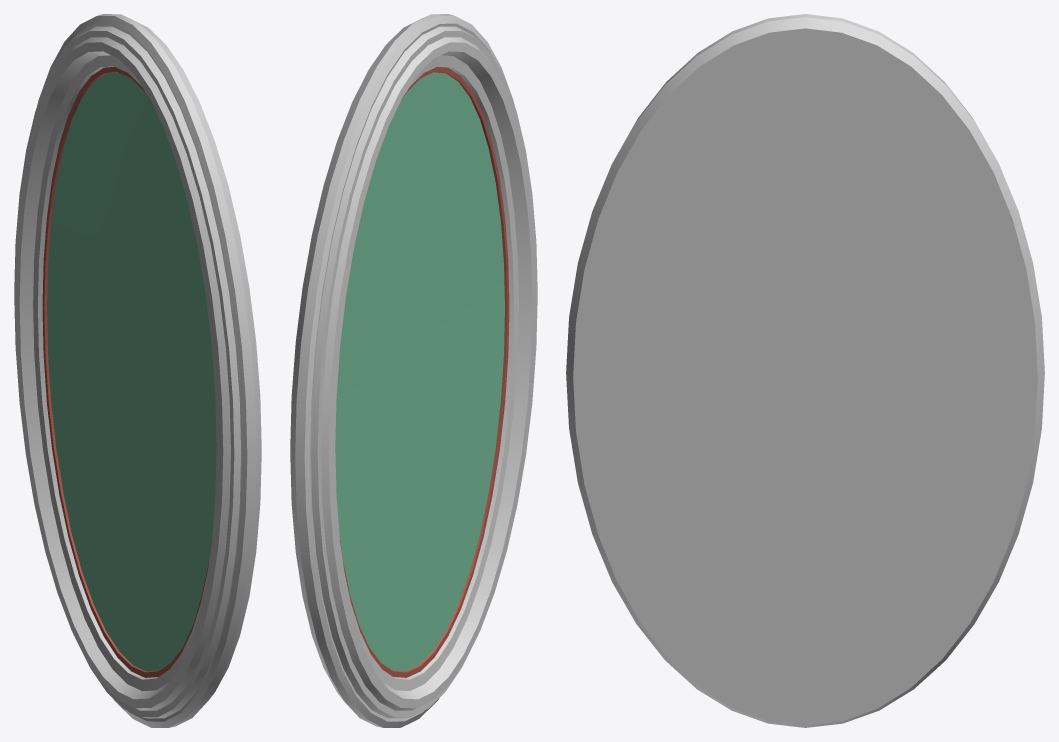
Rendered from LevangerMirror.FBX.
The picture shows the model from 3 angles, left to right: view 1: azimuth 30°, elevation 25°; view 2: azimuth 150°, elevation 25°; view 3: azimuth 270°, elevation 25°; orthographic projection. The views are drawn at different scales.
Visible parts, largest first — view 1: LevangerMirror; view 2: LevangerMirror; view 3: LevangerMirror.
Boxes of the visible parts, <box> form: LevangerMirror: <box>14,14,261,727</box>; LevangerMirror: <box>290,14,537,727</box>; LevangerMirror: <box>566,14,1044,727</box>.
Bounding box in the file's own units: 110 × 2413 × 1473.
